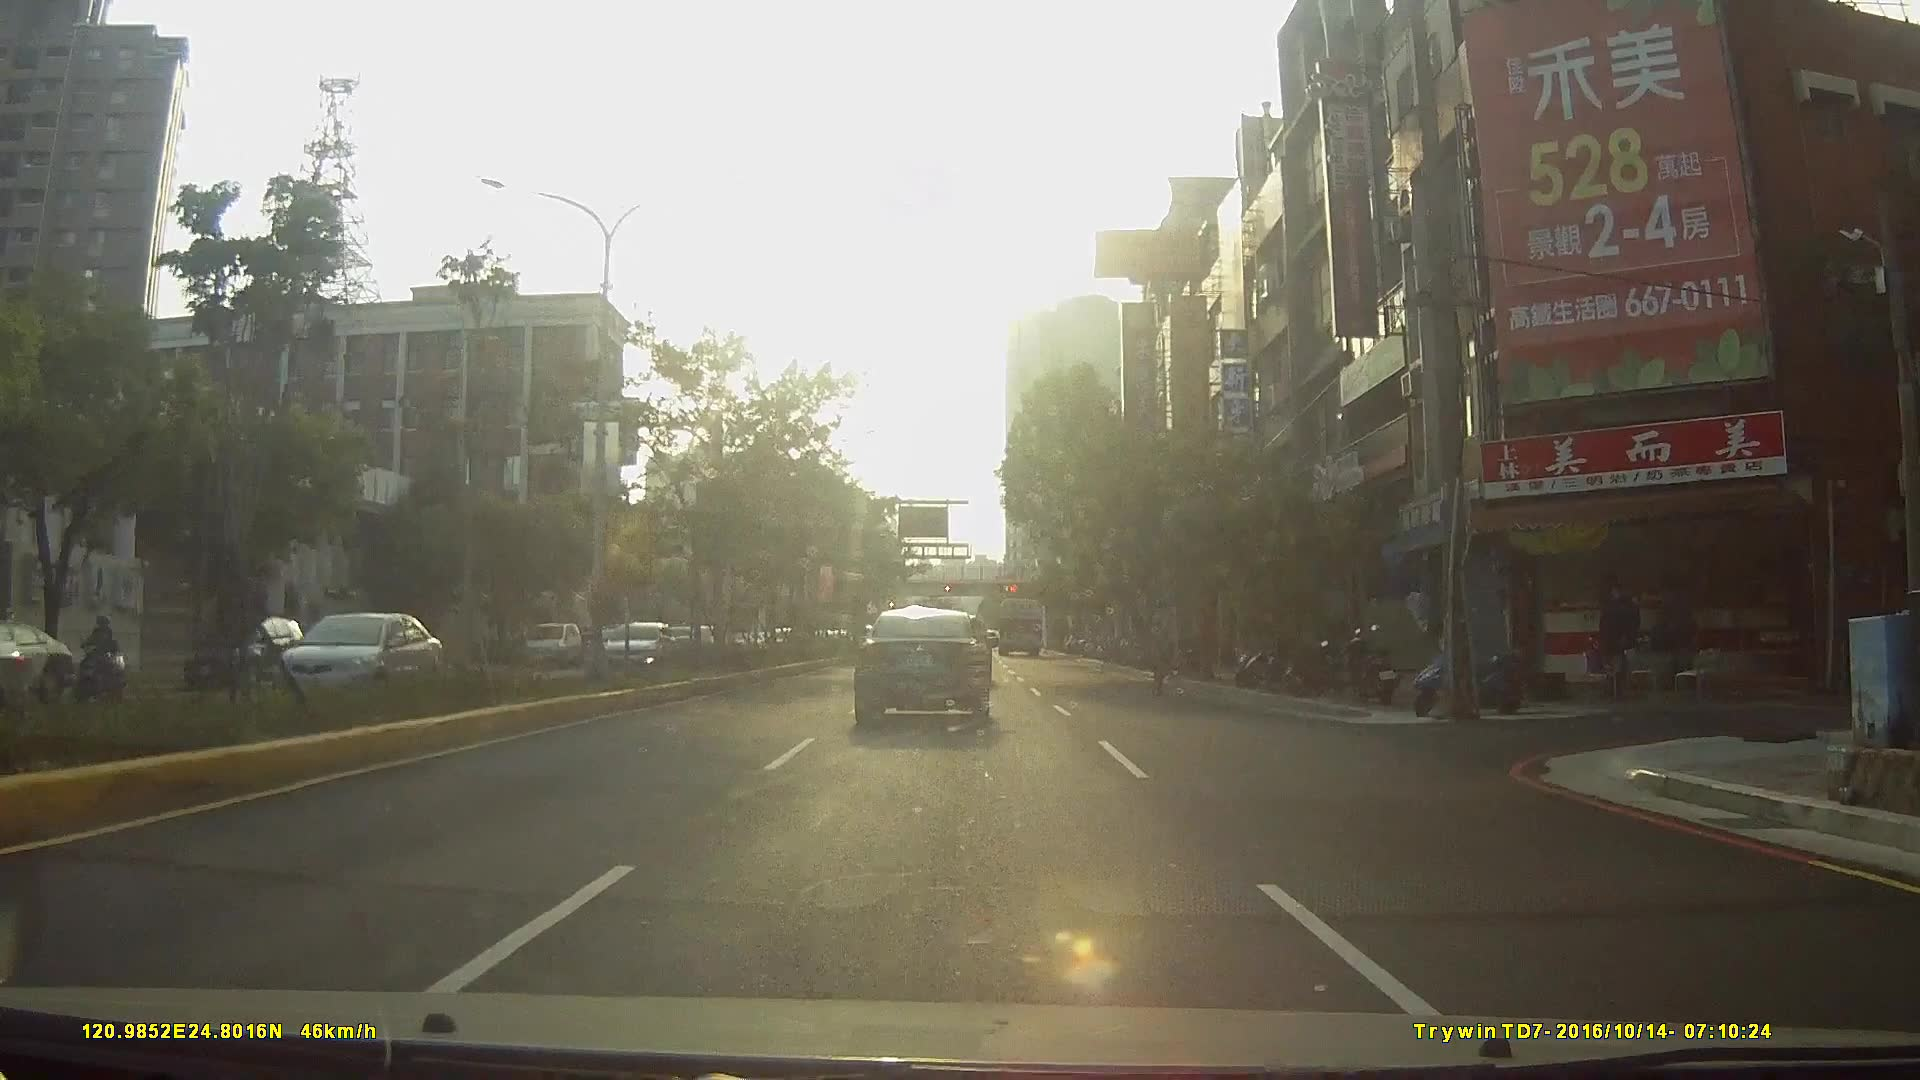pedestrian: (1144, 612, 1183, 697)
rider: (69, 610, 124, 707)
vehicle: (256, 602, 457, 731), (851, 604, 993, 728), (1, 602, 103, 729), (176, 614, 304, 690), (591, 616, 686, 679), (0, 617, 66, 706), (994, 594, 1043, 656), (520, 620, 582, 665)
